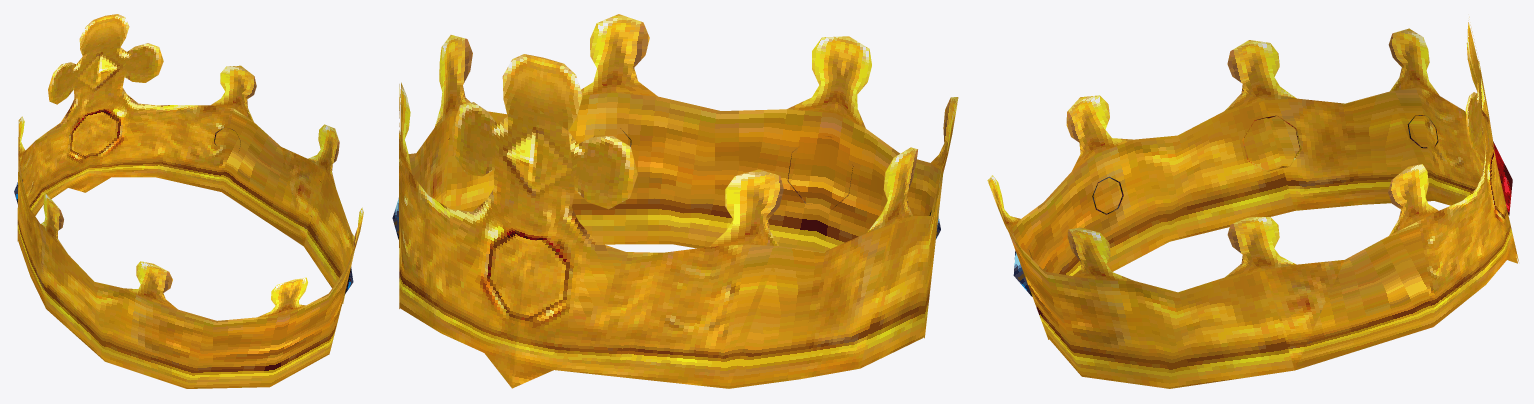
The model's file is ps2_save-icons_robinhooddefenderofthecrown.glb.
3 renders of one model, left to right at view 1: azimuth 30°, elevation 25°; view 2: azimuth 150°, elevation 25°; view 3: azimuth 270°, elevation 25°, orthographic. The views are drawn at different scales.
Visible parts, largest first — view 1: list.ico; view 2: list.ico; view 3: list.ico.
Part boxes in pixels (x1,y1,x2,y2): list.ico: (14,14,363,388); list.ico: (392,14,958,388); list.ico: (987,17,1518,388).
Bounding box in the file's own units: 3.94 × 3.32 × 5.
Materials: 1 (1 with a texture image).
